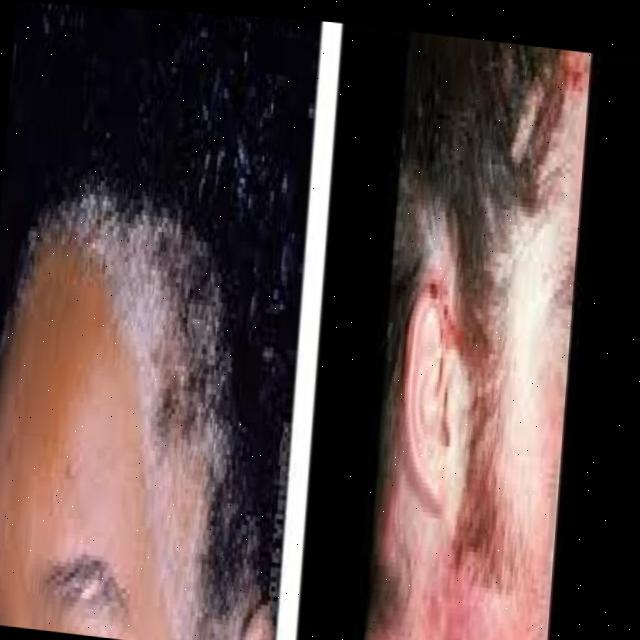Eczema: (0, 168, 276, 640), (423, 542, 489, 640)
